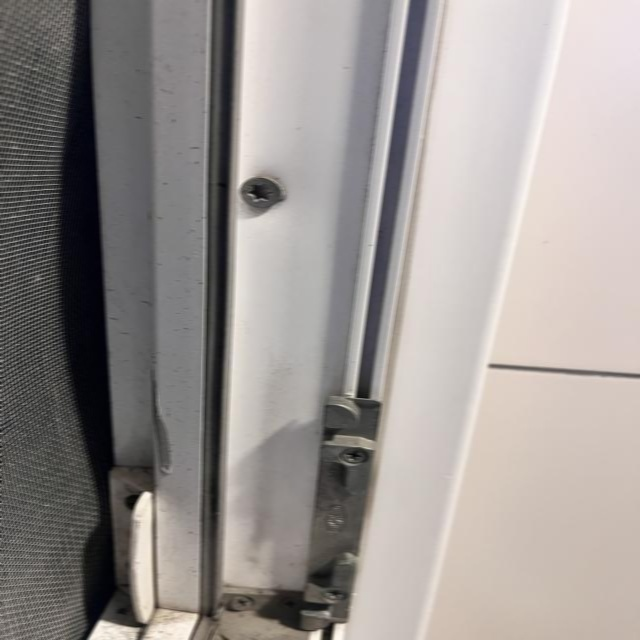phillips: (340, 448, 368, 463), (279, 596, 302, 611), (230, 595, 253, 610), (323, 588, 347, 600)
torx: (239, 176, 282, 208)
